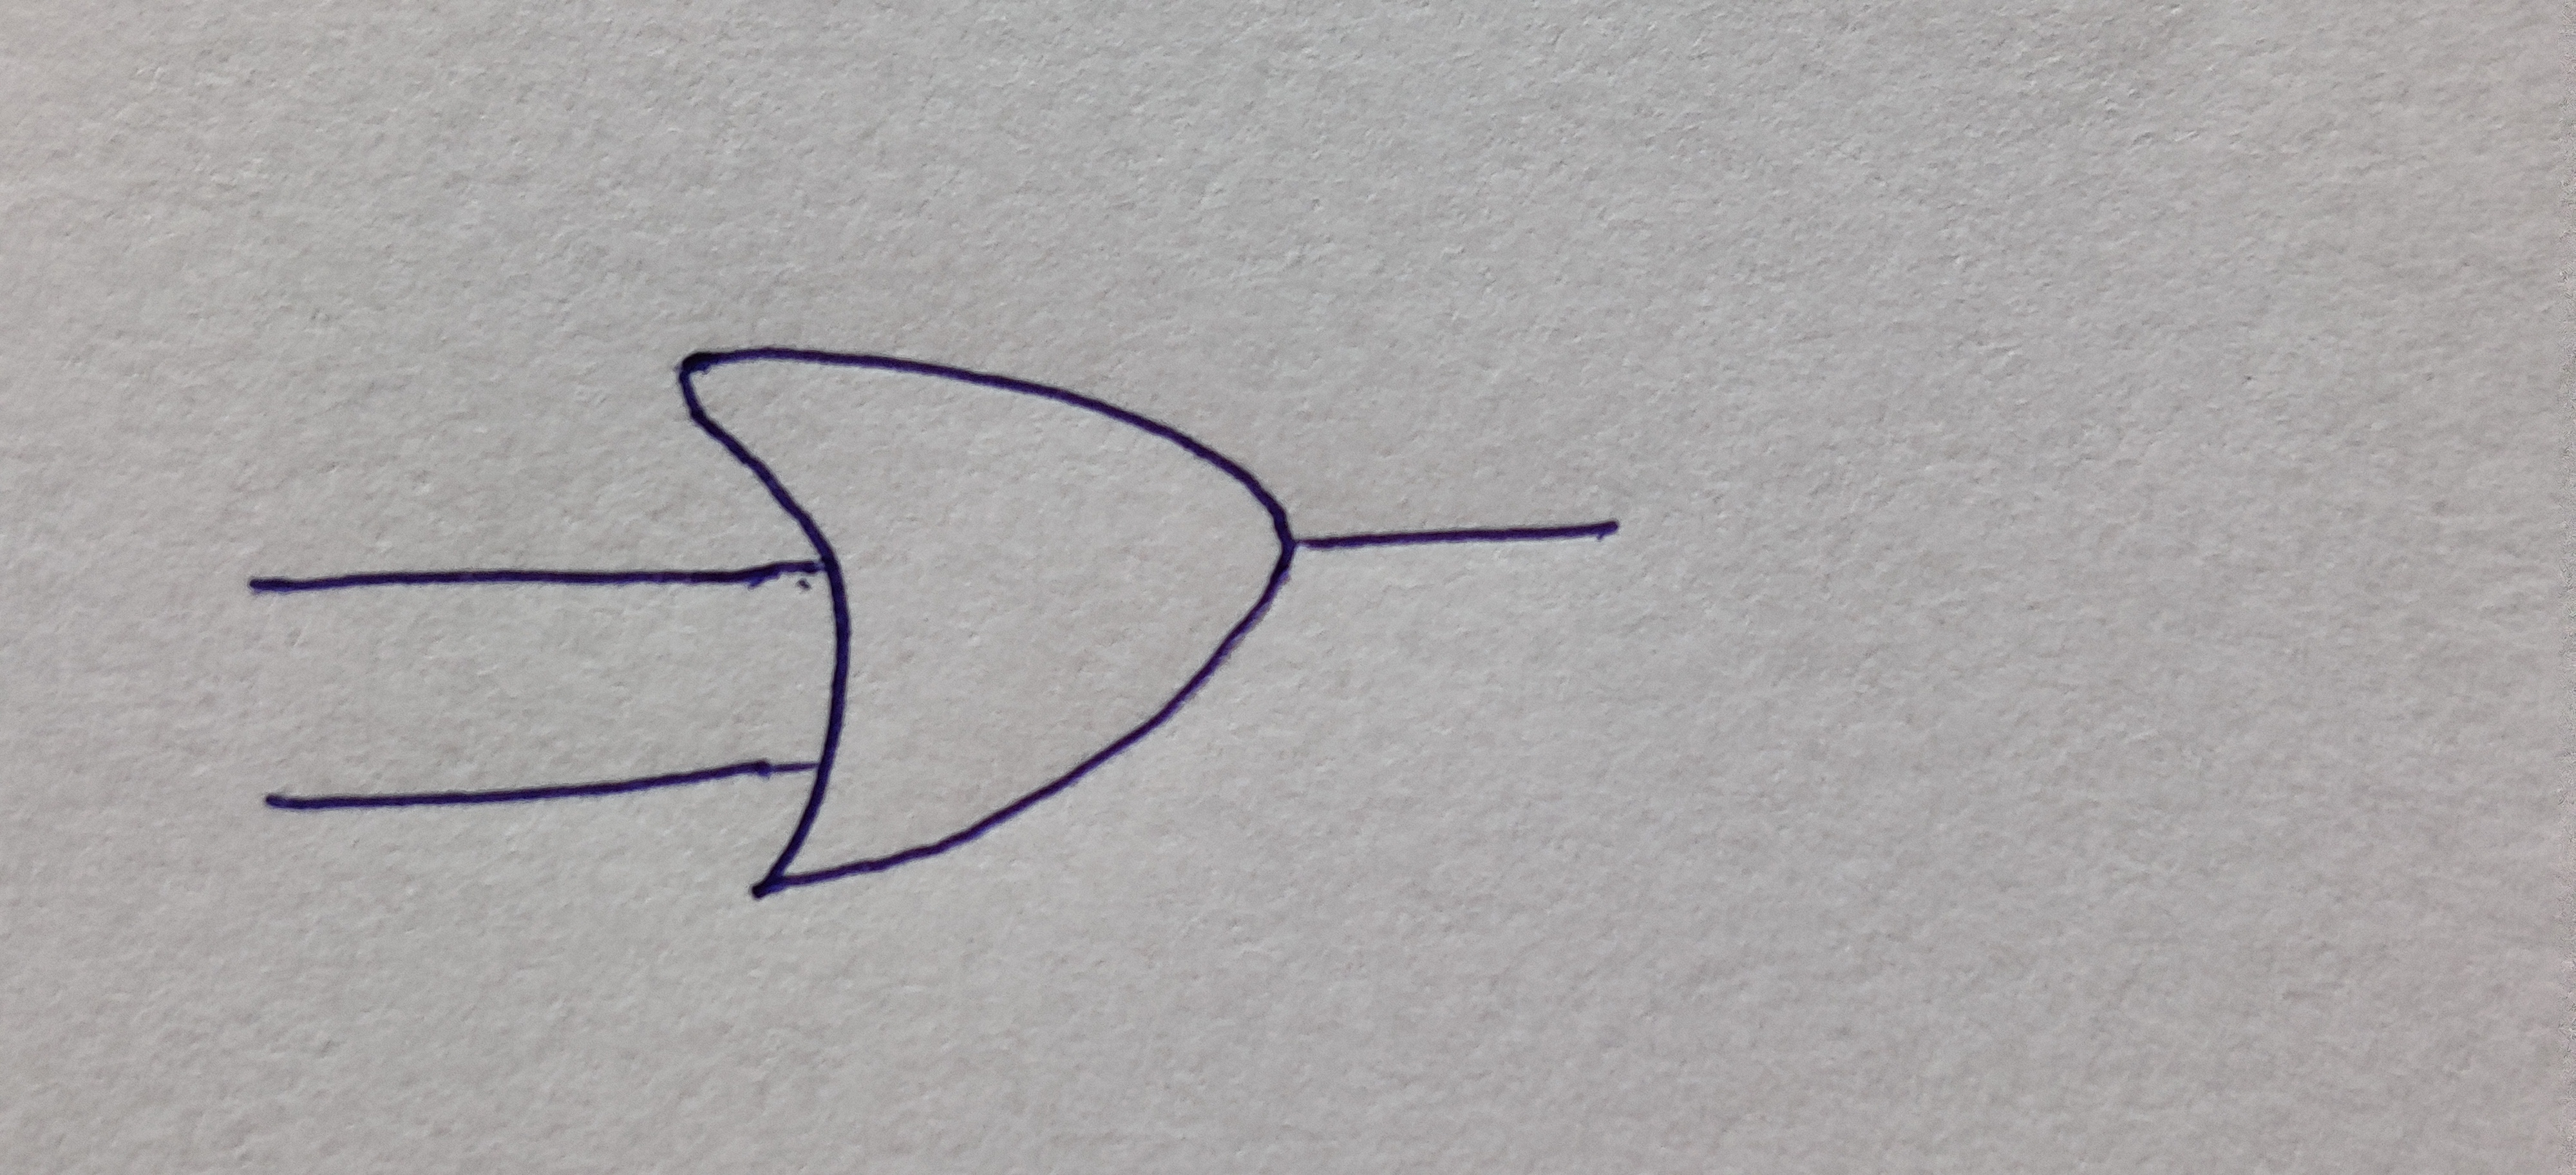or: (680, 343, 1296, 892)
